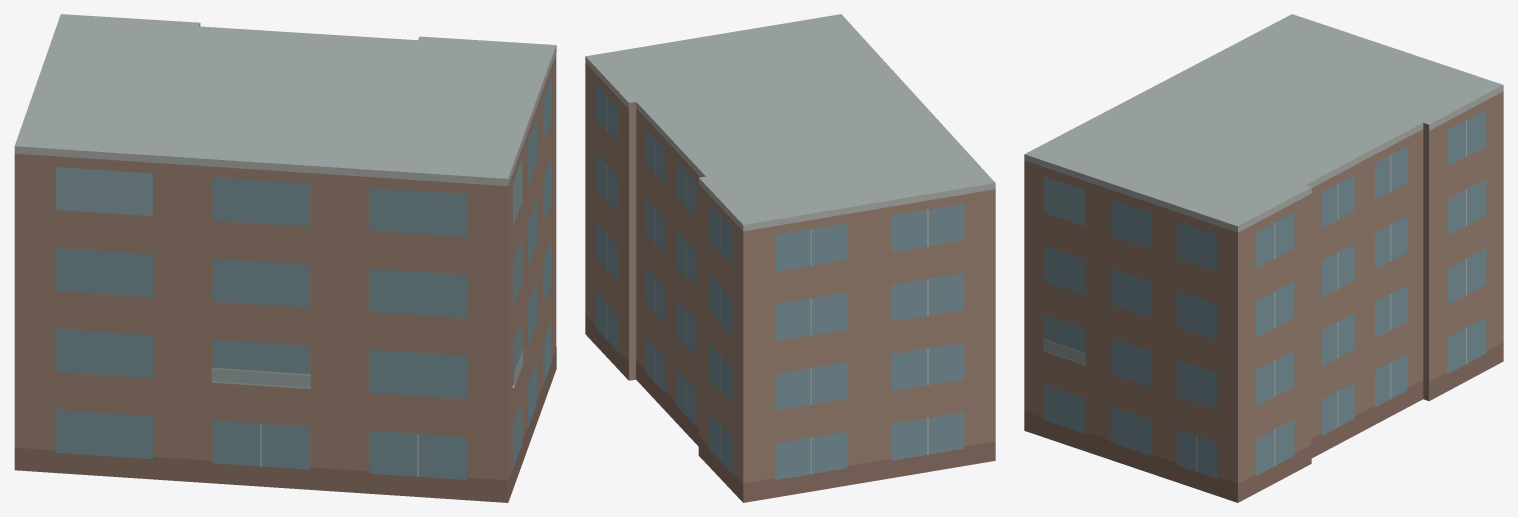
File: survey-upis-32903870.glb
The picture shows the model from 3 angles, left to right: view 1: azimuth 30°, elevation 25°; view 2: azimuth 150°, elevation 25°; view 3: azimuth 270°, elevation 25°; orthographic projection. The views are drawn at different scales.
Visible parts, largest first — view 1: survey-upis-32903870.tmp; view 2: survey-upis-32903870.tmp; view 3: survey-upis-32903870.tmp.
Boxes of the visible parts, x1,y1,x2,y2 form: survey-upis-32903870.tmp: [14, 14, 556, 502]; survey-upis-32903870.tmp: [585, 14, 995, 502]; survey-upis-32903870.tmp: [1024, 14, 1503, 502].
Bounding box in the file's own units: 17.84 × 10.82 × 17.01.
